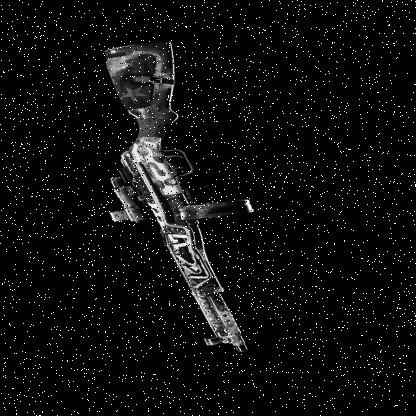rifle: (18, 33, 352, 367)
